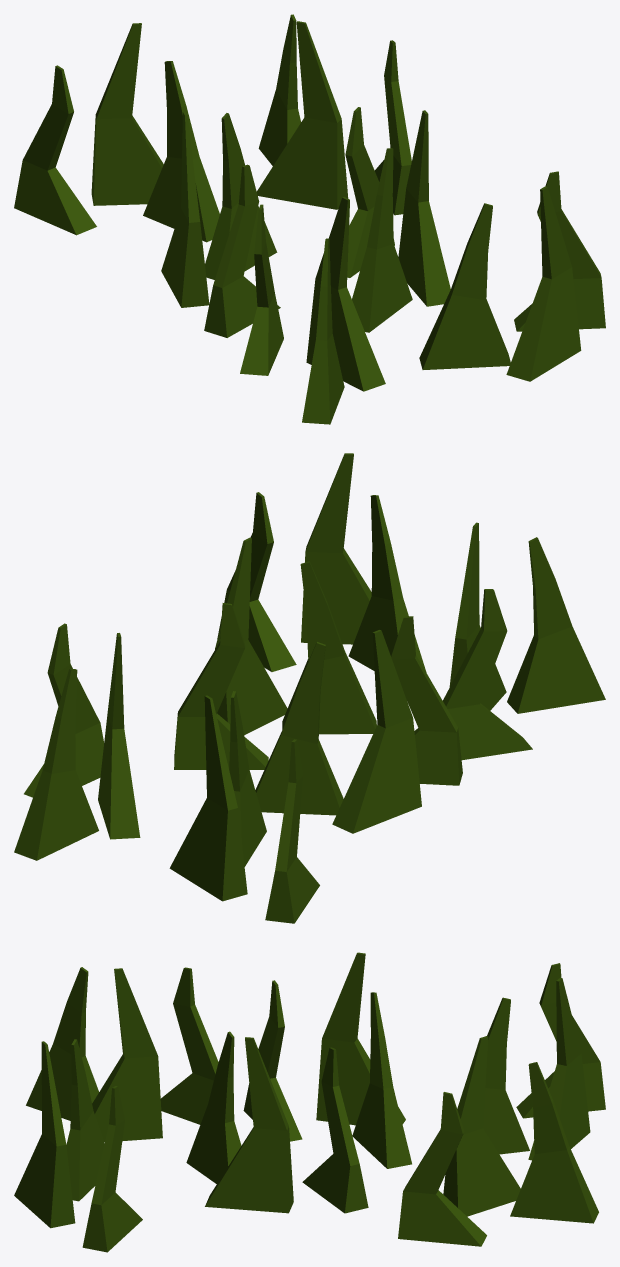
Rendered from moita.obj.
The picture shows the model from 3 angles, top to bottom: view 1: azimuth 30°, elevation 25°; view 2: azimuth 150°, elevation 25°; view 3: azimuth 270°, elevation 25°; orthographic projection. The views are drawn at different scales.
Visible parts, largest first — view 1: Cube.002, Cube.009_Cube.010, Cube.003, Cube.004, Cube.000, Cube.001; view 2: Cube.000, Cube.001, Cube.004, Cube.003, Cube.002, Cube.009_Cube.010; view 3: Cube.003, Cube.004, Cube.001, Cube.009_Cube.010, Cube.000, Cube.002.
Boxes of the visible parts, x1,y1,x2,y2 form: Cube.002: (14,23,219,242); Cube.009_Cube.010: (419,171,605,381); Cube.003: (257,14,411,215); Cube.004: (345,107,450,332); Cube.000: (161,111,280,337); Cube.001: (240,197,385,424); Cube.000: (255,616,462,833); Cube.001: (443,522,605,760); Cube.004: (174,537,376,769); Cube.003: (14,623,140,860); Cube.002: (169,691,319,923); Cube.009_Cube.010: (217,453,426,672); Cube.003: (398,1036,598,1246); Cube.004: (186,1031,368,1213); Cube.001: (26,967,218,1142); Cube.009_Cube.010: (14,1039,142,1252); Cube.000: (243,952,411,1168); Cube.002: (483,963,605,1160).
Bounding box in the file's own units: 0.6347 × 0.3159 × 1.02.
